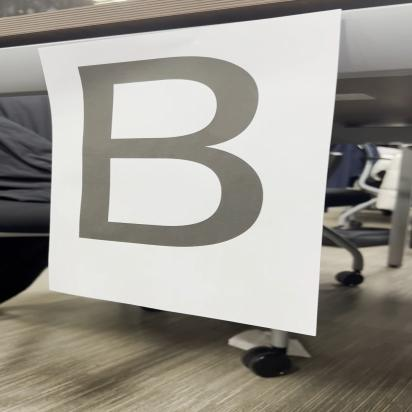seat: (49, 52, 325, 260)
